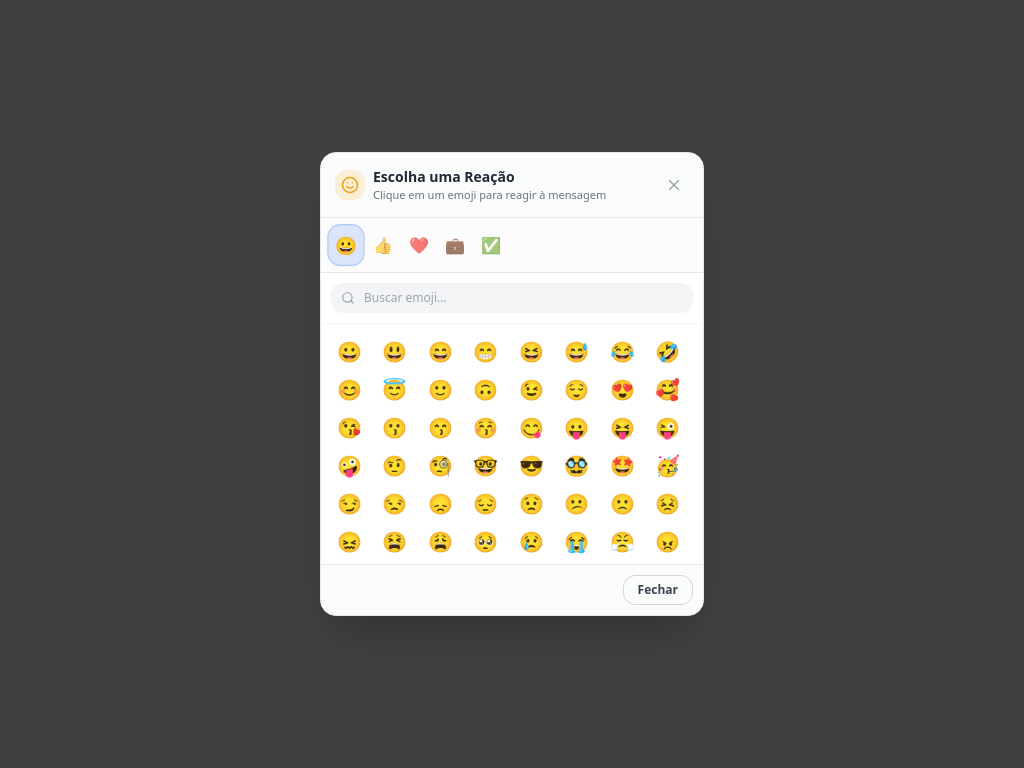
Test: ReactionEmojiPickerModal Unit Tests › permite filtrar emojis pela busca
The width and height of the screenshot is (1024, 768).
Type "🔥" into the field with placeholder "Buscar emoji...". click: (512, 298)
box: [331,283,693,313]
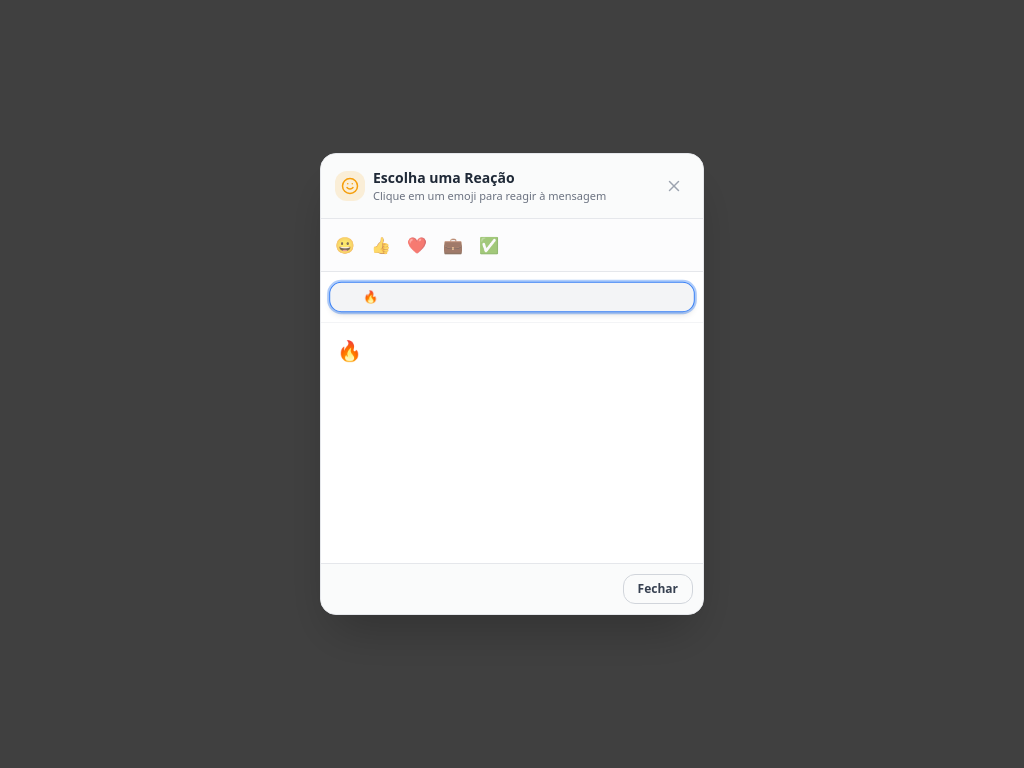
Now the button with test id "reaction-emoji-item" reads "🔥", box [333,335,365,367]
